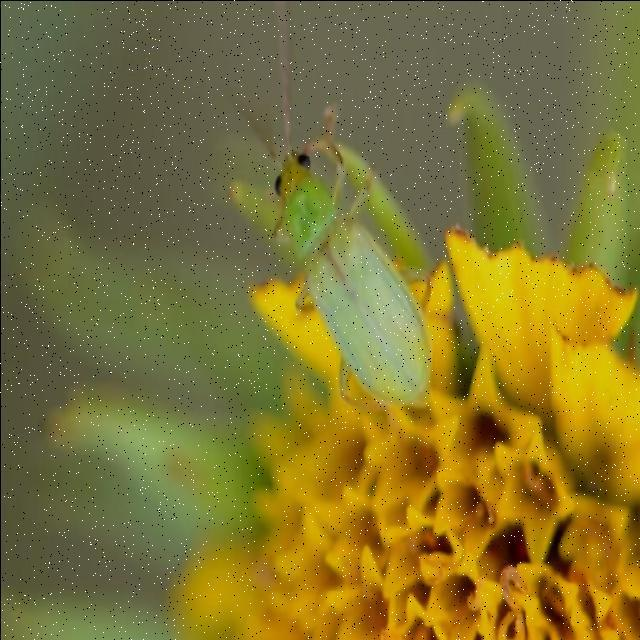gusano_gris: (196, 0, 442, 421)
